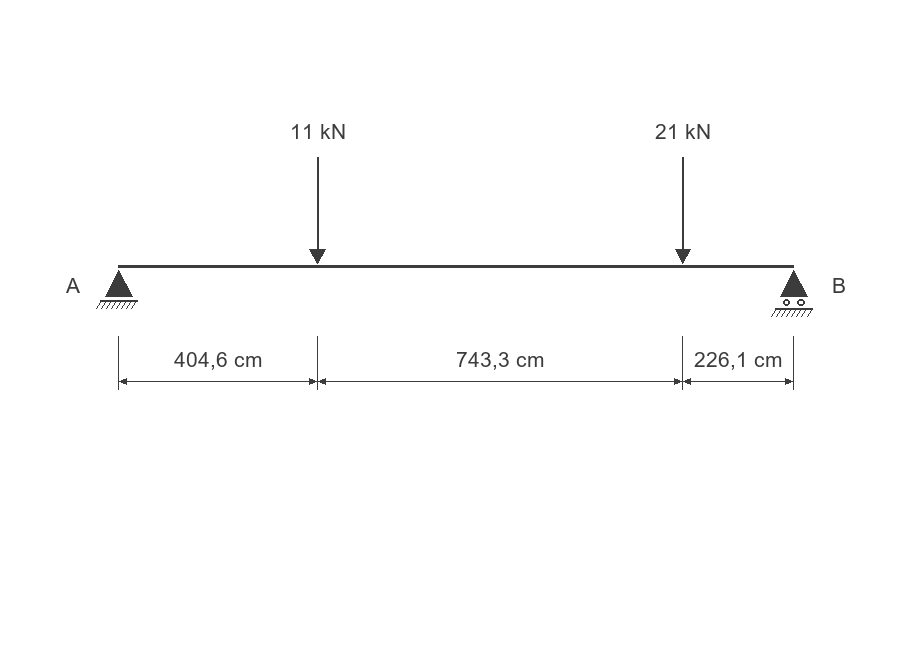pin_support: (96, 270, 138, 309)
point_load: (309, 157, 326, 264), (675, 157, 691, 264)
roller_support: (771, 270, 813, 317)
